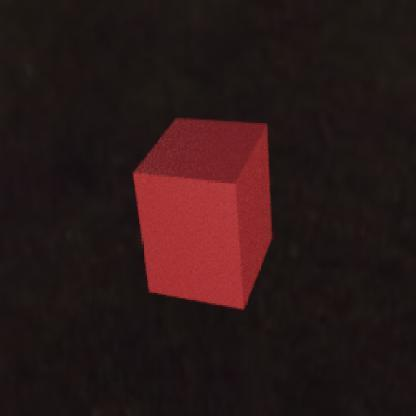red_cube: (132, 116, 272, 309)
